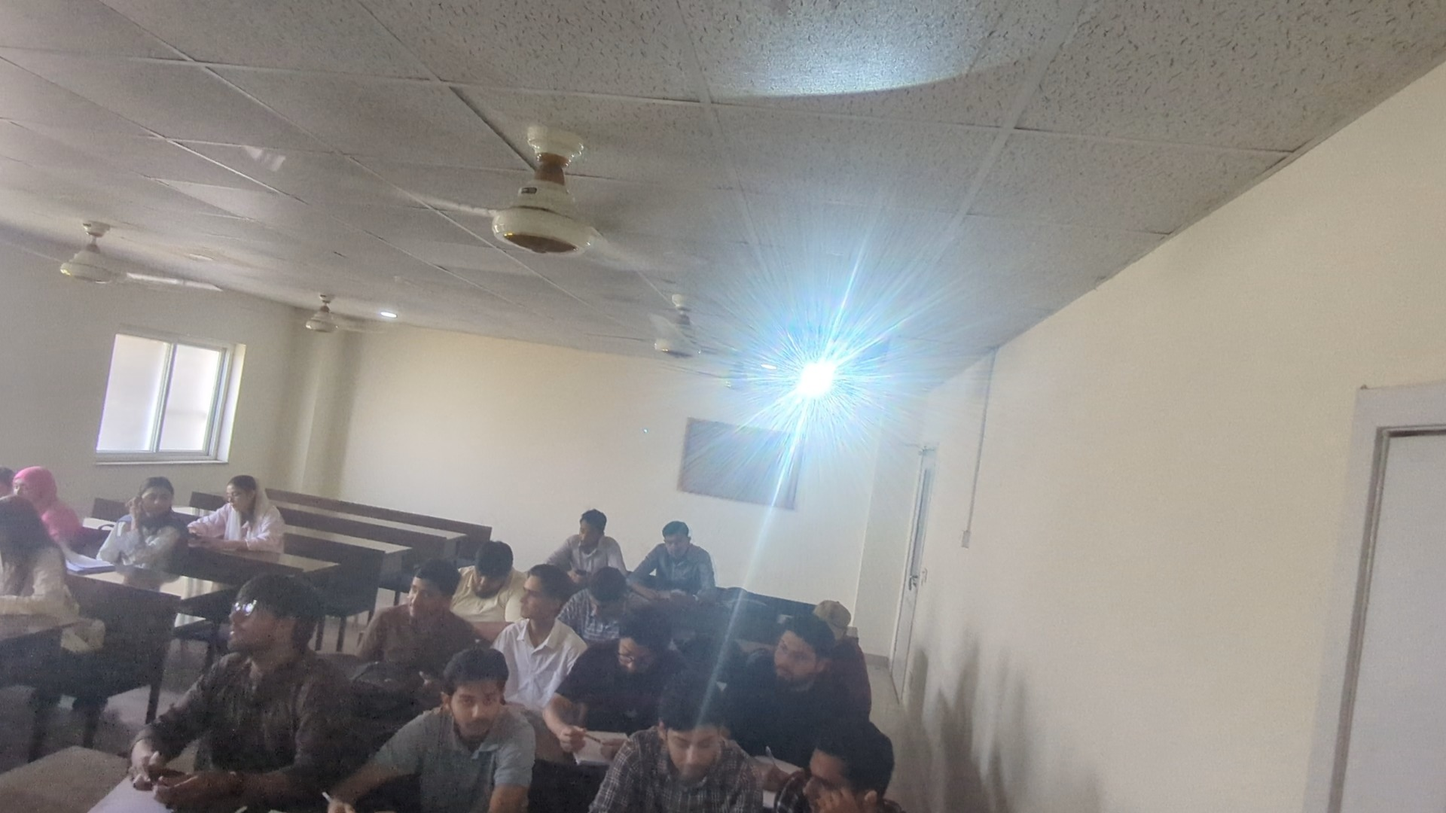look_forward: (123, 571, 346, 808), (332, 653, 542, 811), (715, 618, 857, 741), (497, 566, 593, 697), (95, 474, 187, 570), (636, 523, 732, 610), (377, 561, 465, 648), (5, 463, 82, 526), (813, 602, 876, 661)
read: (547, 615, 660, 764), (0, 501, 77, 642)
turn_head: (595, 679, 763, 813), (781, 713, 912, 813)
using_device: (189, 469, 280, 558), (545, 504, 633, 581)
write: (444, 539, 533, 629), (569, 560, 638, 639)
